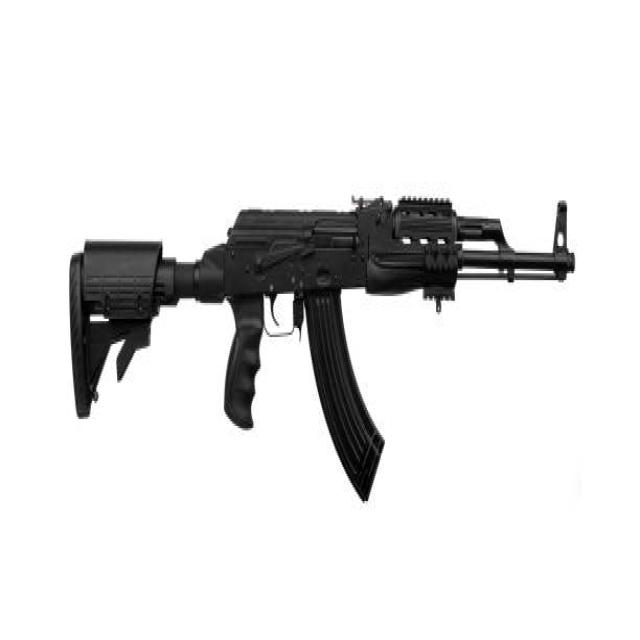rifle: (68, 177, 582, 511)
